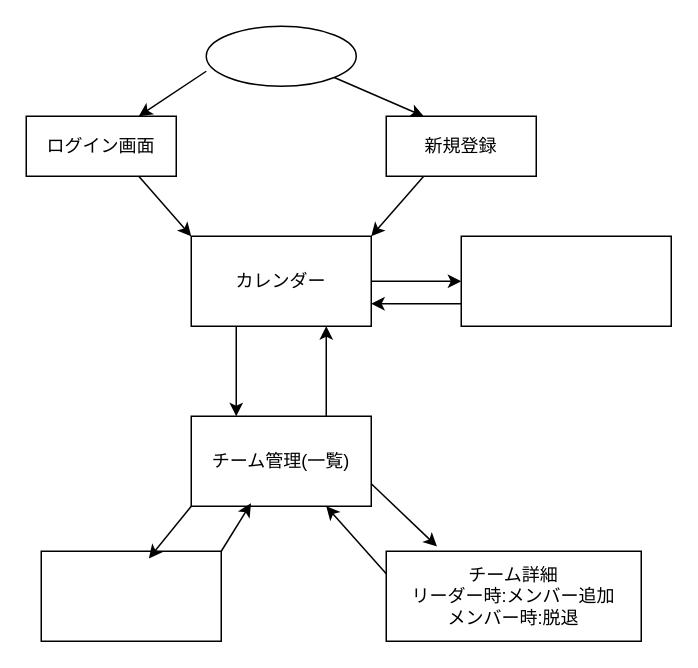
The diagram is 698 pixels wide and 668 high, and some of its shapes have lost their labels. Here are the shapes that lost their labels. From the top down, the centre of each, then its label:
(x=280, y=55): 開始
(x=565, y=280): dayページ/タイムライン
(x=130, y=595): チーム作成
